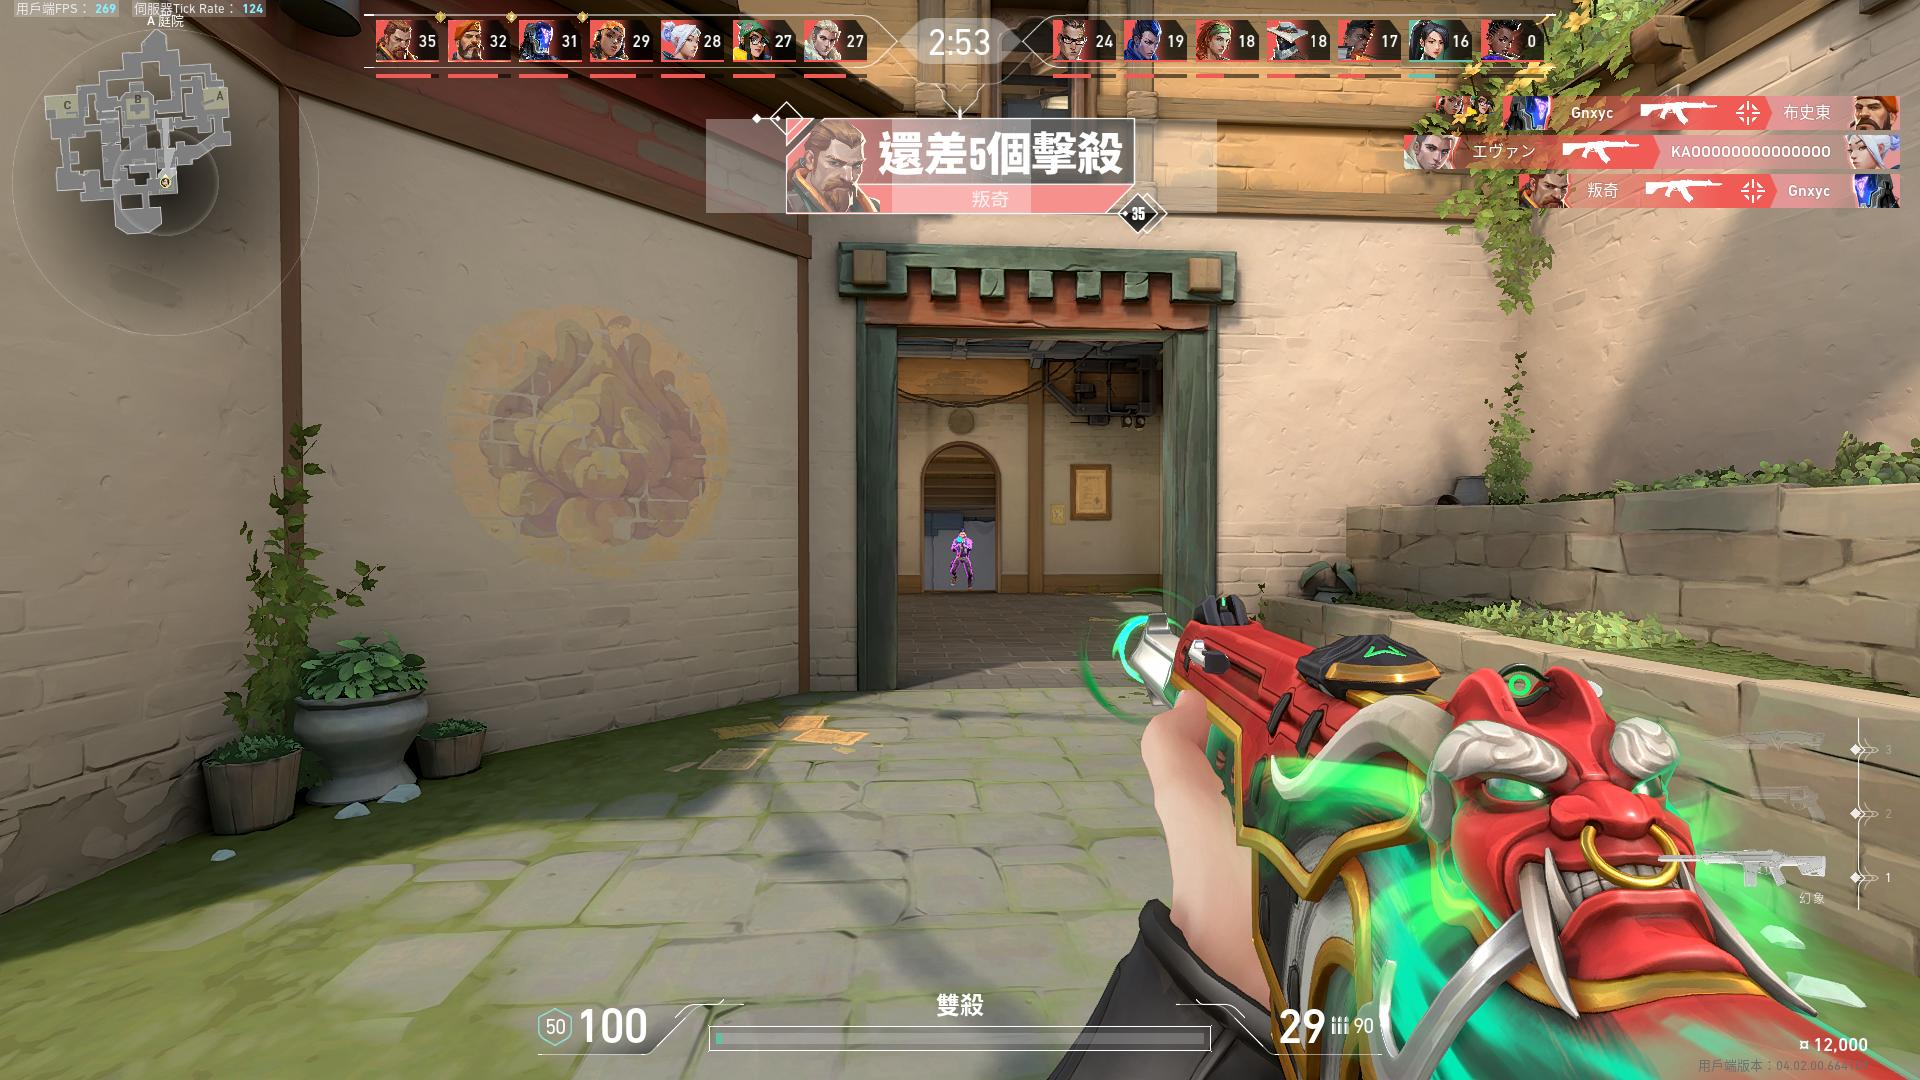enemyBody: (957, 541, 967, 558)
enemyHead: (959, 531, 965, 539)
